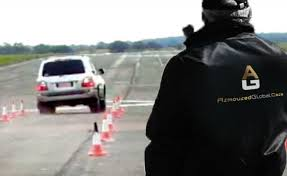car: (34, 54, 108, 115)
